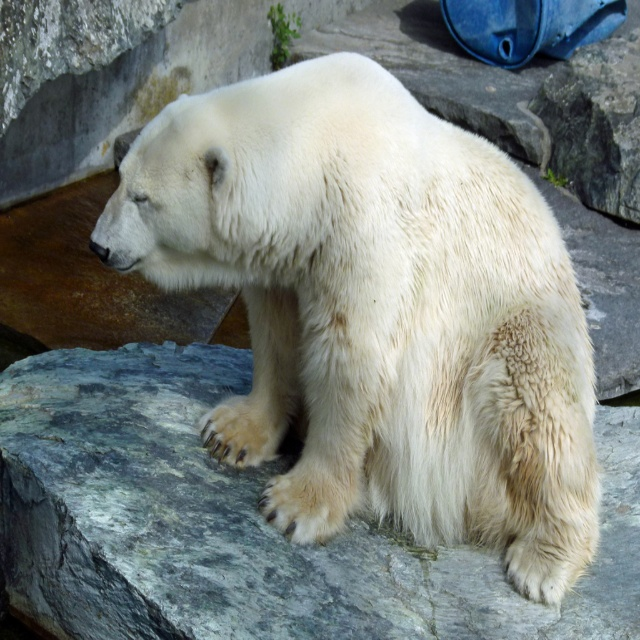Polar bear: (88, 50, 606, 608)
